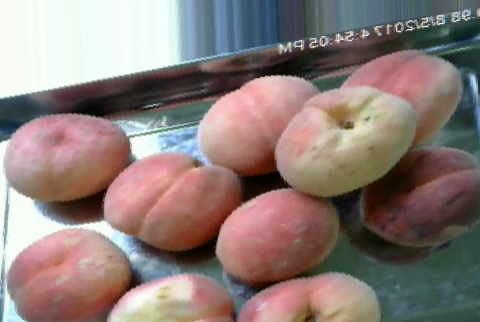Peach: (276, 84, 415, 196), (103, 151, 241, 249), (341, 48, 466, 147), (360, 146, 479, 248), (216, 187, 340, 284), (6, 227, 132, 322), (5, 112, 134, 203), (198, 75, 318, 171), (236, 271, 382, 320), (106, 270, 233, 321)
